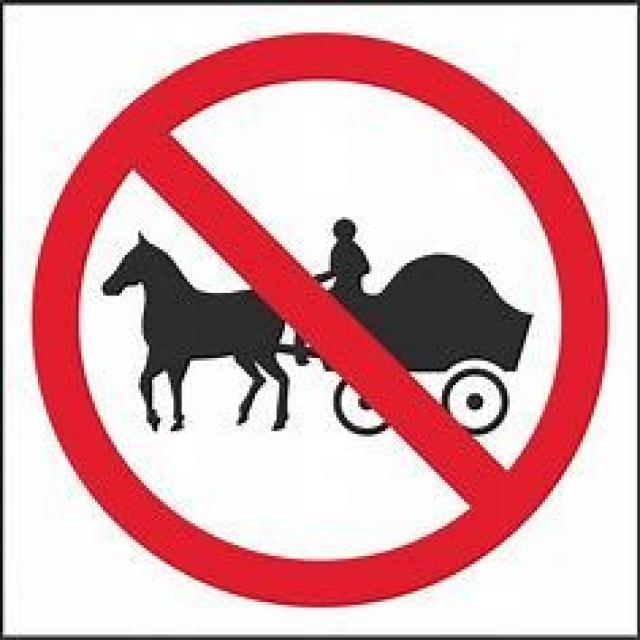TONGA_PROHIBITED: (27, 30, 608, 605)
